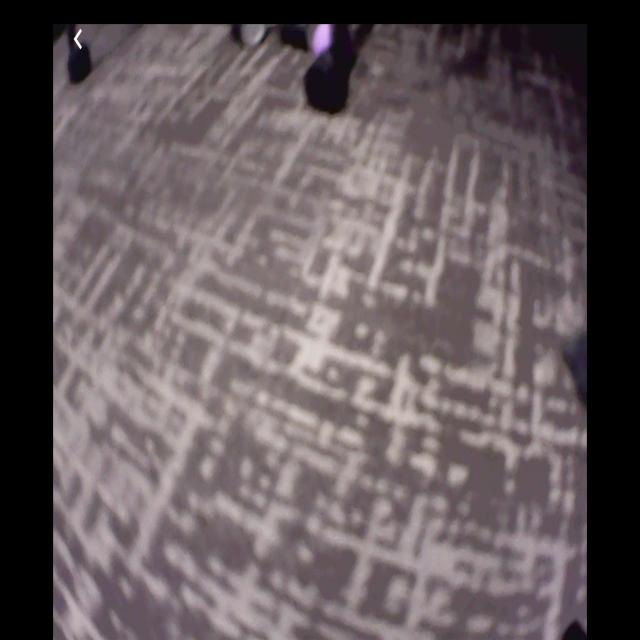ball: (313, 26, 335, 60)
